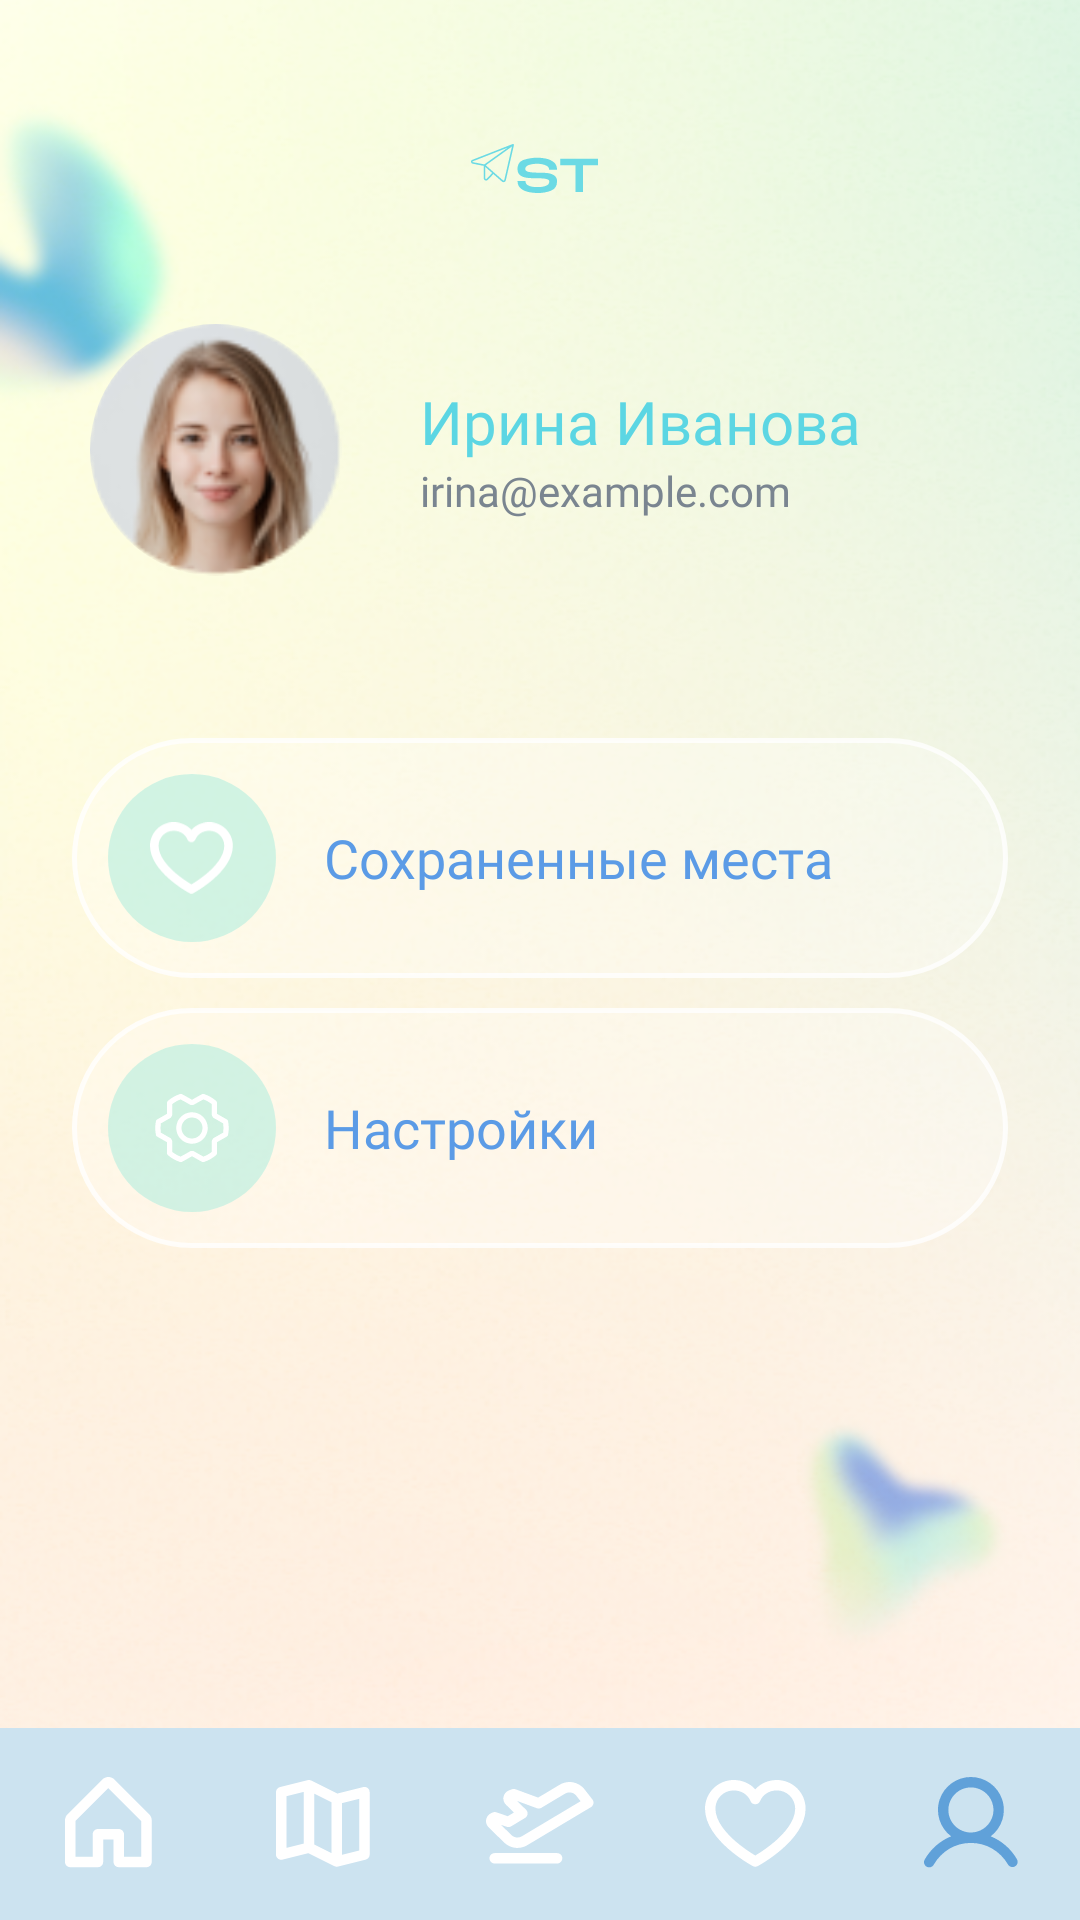

Point at icon controls on the screen. Image size 1080 x 1920, points as (x,y).
heart: (192,858), (755,1823)
house: (108,1822)
map: (323,1823)
plane: (540,1823)
settings: (192,1128)
user: (971,1822)
